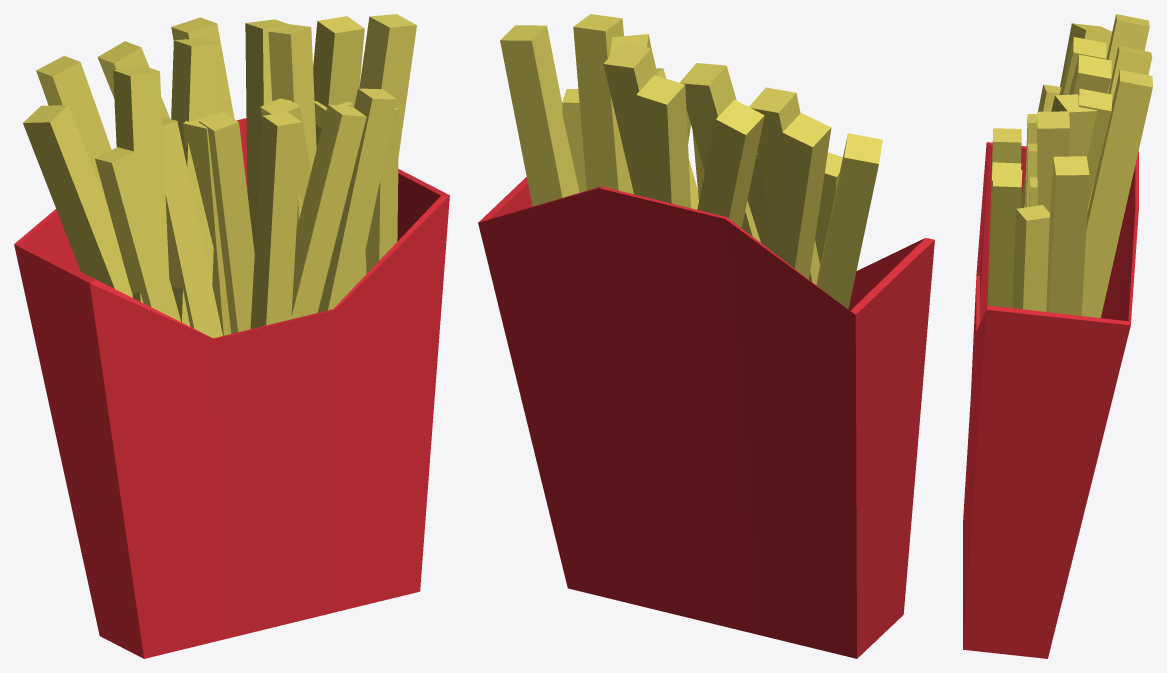
File: OnlyPotato.fbx
3 renders of one model, left to right at view 1: azimuth 30°, elevation 25°; view 2: azimuth 150°, elevation 25°; view 3: azimuth 270°, elevation 25°, orthographic. The views are drawn at different scales.
Parts seen in each view (by area): view 1: FramePotato.001; view 2: FramePotato.001; view 3: FramePotato.001.
Part boxes in pixels (x1,y1,x2,y2): FramePotato.001: (14, 14, 449, 658); FramePotato.001: (478, 14, 934, 658); FramePotato.001: (963, 14, 1152, 658).
Bounding box in the file's own units: 90.02 × 128 × 41.87.
